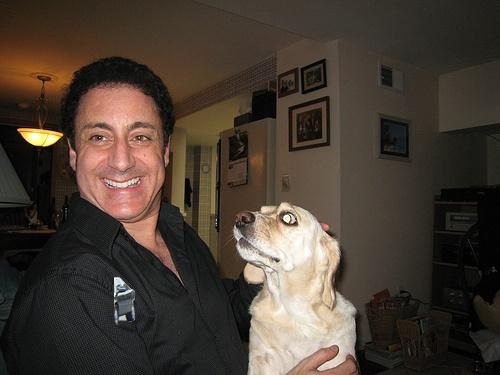tampered: (115, 278, 135, 325)
